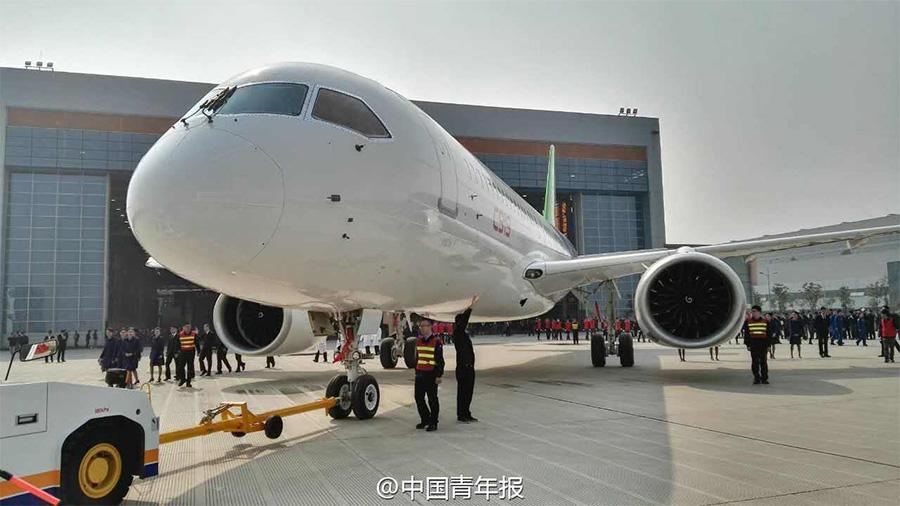airplane: (111, 59, 862, 363)
